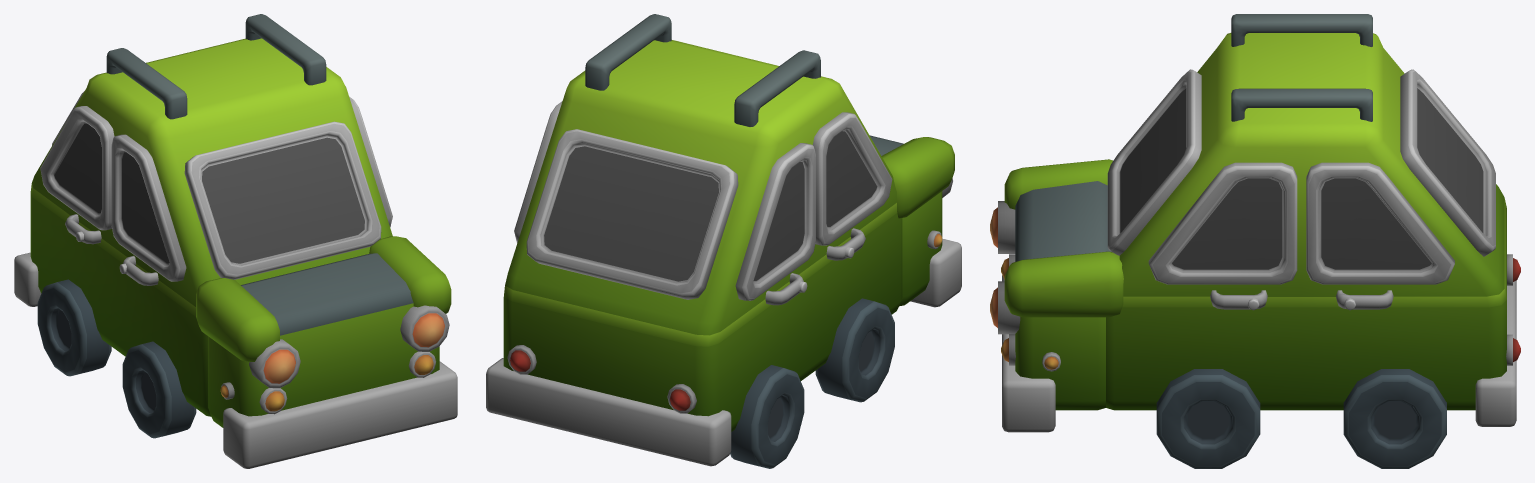
The model's file is mct_car_14.fbx.
The picture shows the model from 3 angles, left to right: view 1: azimuth 30°, elevation 25°; view 2: azimuth 150°, elevation 25°; view 3: azimuth 270°, elevation 25°; orthographic projection. The views are drawn at different scales.
Parts seen in each view (by area): view 1: mct_car_14, mct_car_14_w; view 2: mct_car_14, mct_car_14_w; view 3: mct_car_14, mct_car_14_w.
Part boxes in pixels (<box>): mct_car_14: <box>14,14,457,468</box>; mct_car_14_w: <box>37,279,196,438</box>; mct_car_14: <box>486,14,961,466</box>; mct_car_14_w: <box>730,298,894,468</box>; mct_car_14: <box>990,14,1520,432</box>; mct_car_14_w: <box>1156,369,1446,468</box>.
Size of the model in its own units: 130 by 170 by 231.
